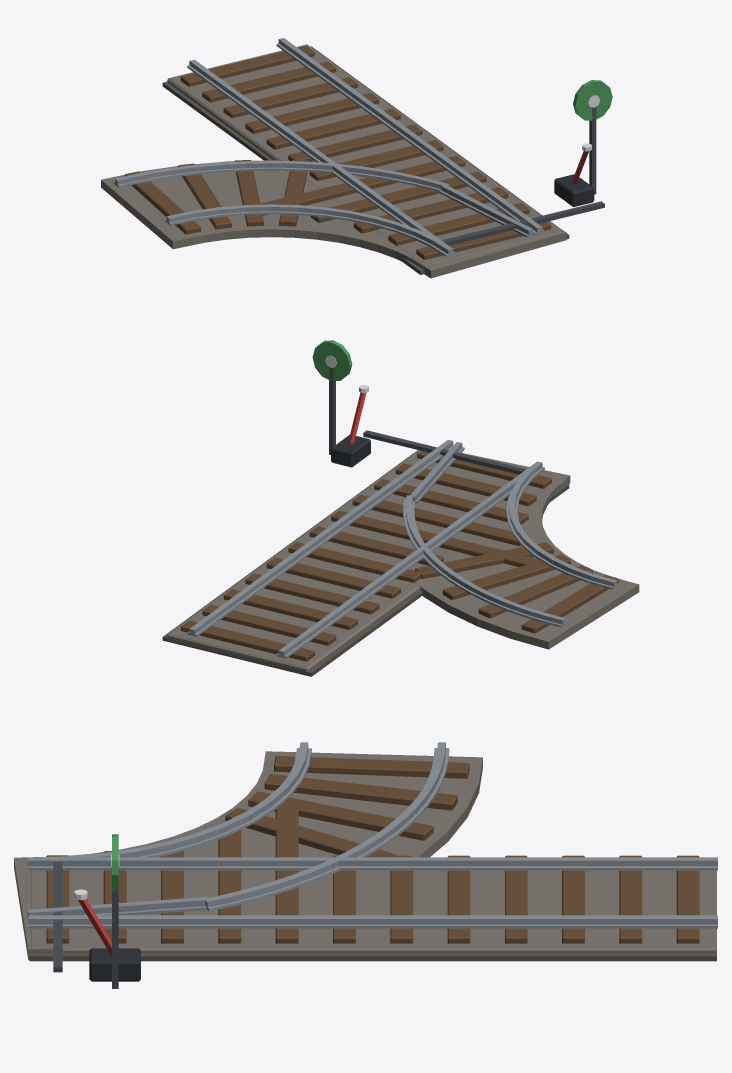
File: rail_aiguillage_g_droit.glb
The picture shows the model from 3 angles, top to bottom: view 1: azimuth 30°, elevation 25°; view 2: azimuth 150°, elevation 25°; view 3: azimuth 270°, elevation 25°; orthographic projection. The views are drawn at different scales.
Parts seen in each view (by area): view 1: rail_ballast.016, rail_traverse.018, rail_rail.018, rail_acier.008, rail_acier_sombre.008, rail_ballast_sombre.010, rail_vert.004, rail_fonte.008; view 2: rail_ballast.016, rail_traverse.018, rail_rail.018, rail_ballast_sombre.010, rail_acier_sombre.008, rail_acier.008, rail_vert.004, rail_fonte.008; view 3: rail_ballast.016, rail_traverse.018, rail_rail.018, rail_ballast_sombre.010, rail_acier.008, rail_acier_sombre.008, rail_fonte.008.
Part boxes in pixels (left/top/right/bottom): rail_ballast.016: left=101, top=44, right=566, bottom=278; rail_traverse.018: left=124, top=45, right=551, bottom=259; rail_rail.018: left=113, top=38, right=544, bottom=256; rail_acier.008: left=376, top=185, right=534, bottom=256; rail_acier_sombre.008: left=442, top=107, right=604, bottom=245; rail_ballast_sombre.010: left=162, top=46, right=569, bottom=274; rail_vert.004: left=573, top=80, right=612, bottom=120; rail_fonte.008: left=554, top=174, right=594, bottom=206; rail_ballast.016: left=167, top=450, right=639, bottom=673; rail_traverse.018: left=180, top=451, right=618, bottom=661; rail_rail.018: left=187, top=439, right=618, bottom=658; rail_ballast_sombre.010: left=162, top=450, right=569, bottom=676; rail_acier_sombre.008: left=329, top=367, right=526, bottom=474; rail_acier.008: left=409, top=442, right=544, bottom=519; rail_vert.004: left=312, top=340, right=352, bottom=380; rail_fonte.008: left=331, top=435, right=370, bottom=467; rail_ballast.016: left=14, top=751, right=716, bottom=959; rail_traverse.018: left=46, top=756, right=699, bottom=943; rail_rail.018: left=27, top=742, right=717, bottom=928; rail_ballast_sombre.010: left=29, top=953, right=716, bottom=961; rail_acier.008: left=27, top=857, right=213, bottom=919; rail_acier_sombre.008: left=53, top=862, right=118, bottom=988; rail_fonte.008: left=89, top=948, right=140, bottom=981.
Bounding box in the file's own units: 3.07 × 0.777 × 3.07.
